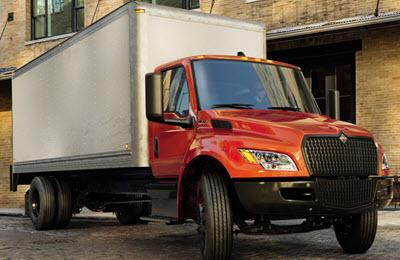truck: (9, 1, 390, 260)
